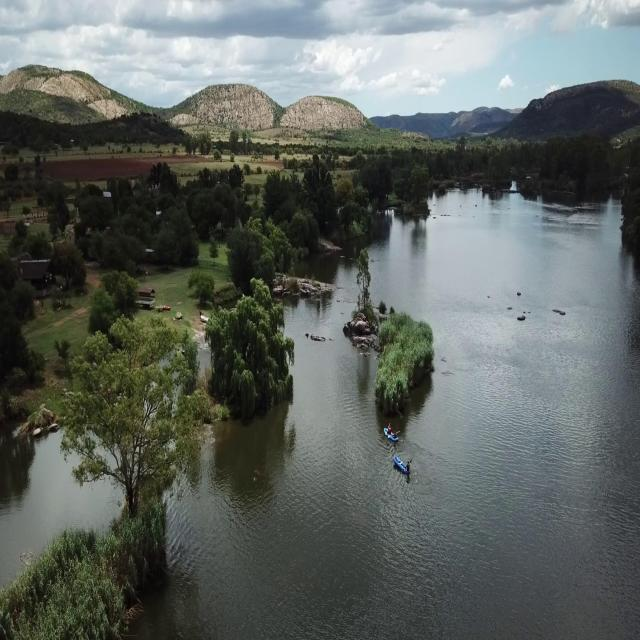kayak: (393, 453, 414, 477), (382, 421, 402, 445)
